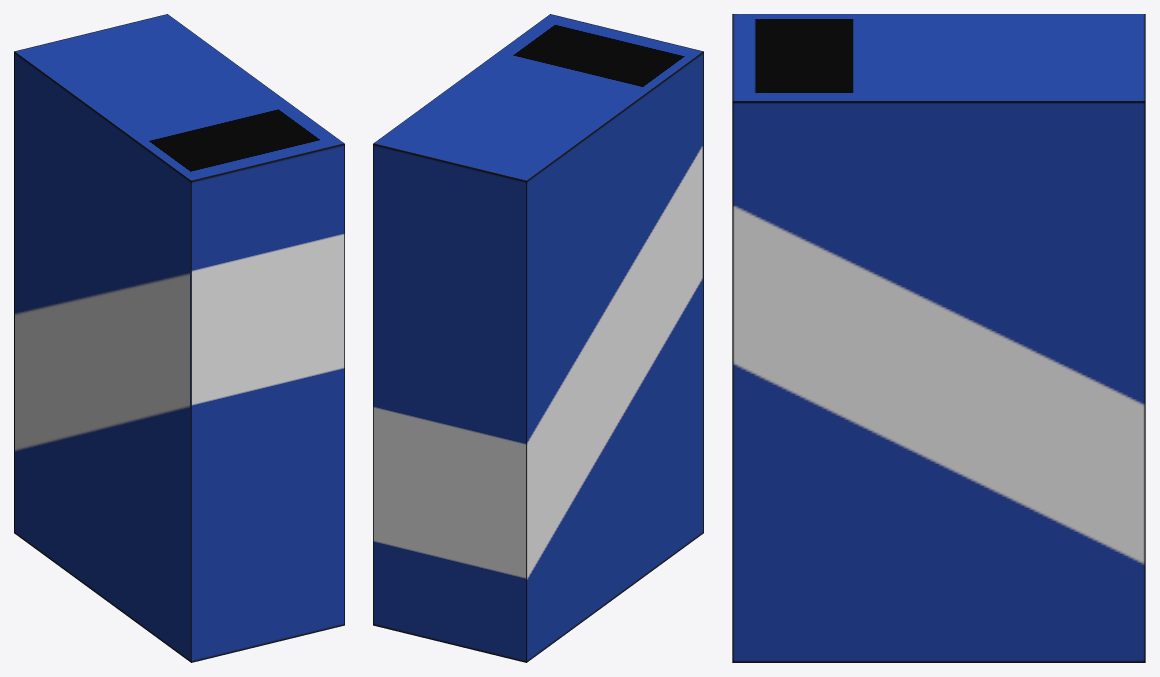
Rendered from Detergent.fbx.
3 views of the same model, side by side, from view 1: azimuth 30°, elevation 25°; view 2: azimuth 150°, elevation 25°; view 3: azimuth 270°, elevation 25° (orthographic). The views are drawn at different scales.
Parts seen in each view (by area): view 1: Cube; view 2: Cube; view 3: Cube.
Part boxes in pixels (x1,y1,x2,y2): Cube: (14, 14, 344, 662); Cube: (373, 14, 703, 662); Cube: (732, 14, 1145, 662).
Bounding box in the file's own units: 20 × 60 × 40.
1 material, 1 textured.
